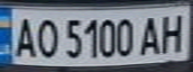0: (115, 15, 139, 58), (97, 16, 118, 58)
1: (81, 16, 100, 58)
5: (60, 15, 84, 60)
A: (9, 14, 39, 58), (136, 12, 163, 56)
H: (157, 10, 190, 54)
O: (33, 15, 60, 60)
